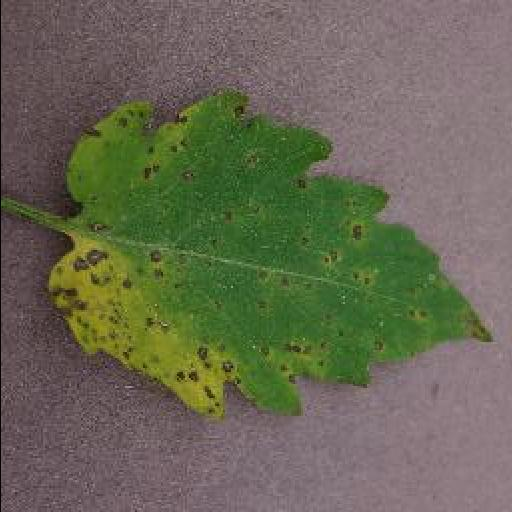disease_tomato: (43, 88, 493, 424)
